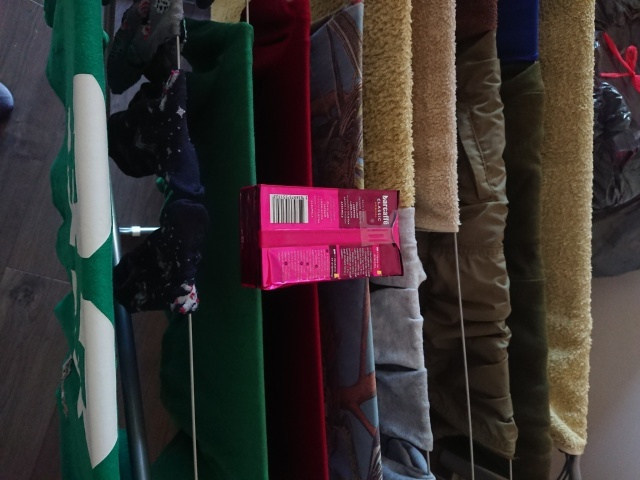Barcaffe Classic Original 225g: (237, 181, 406, 293)
